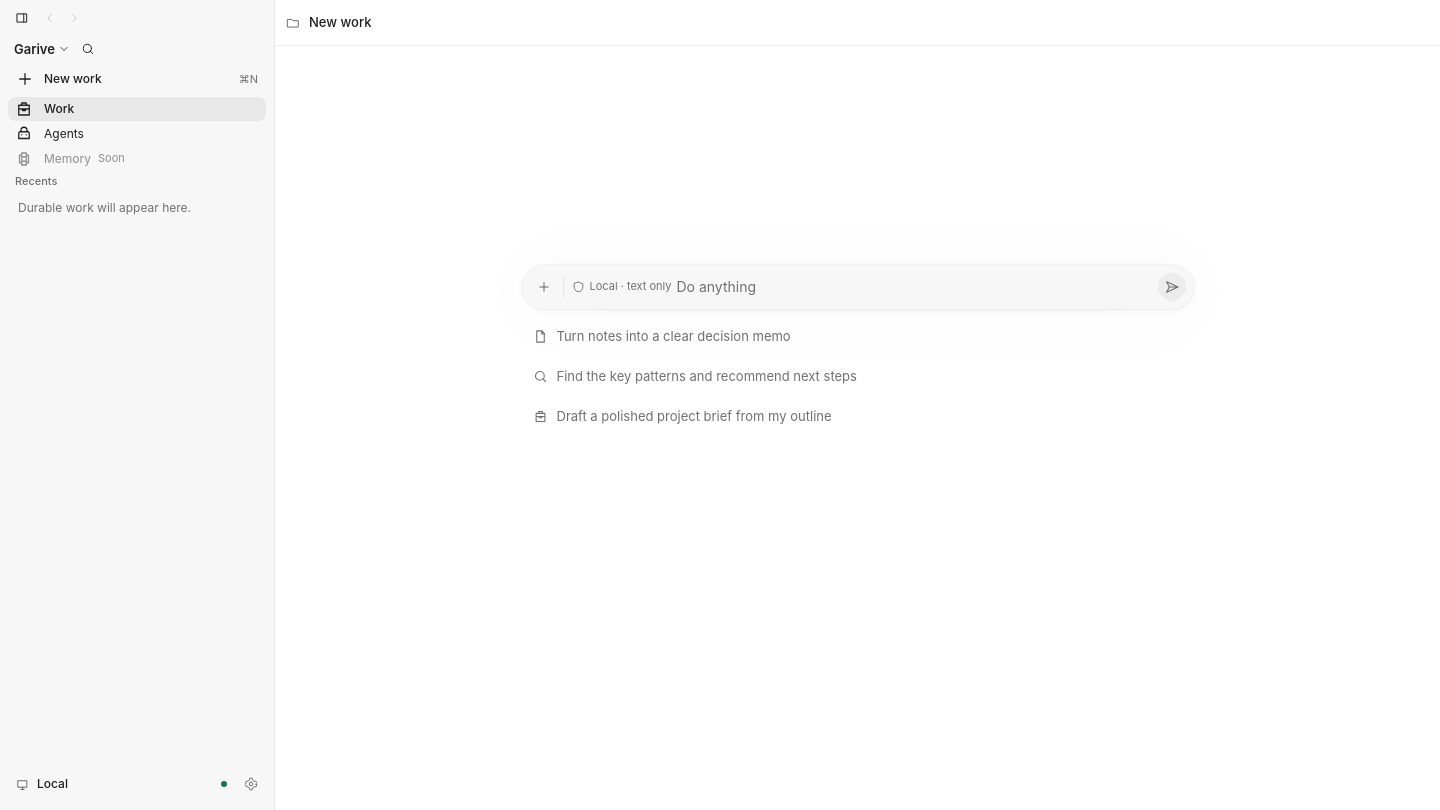
Scenario: Desktop product experience › creates, acknowledges, follows and completes a first durable Turn
The width and height of the screenshot is (1440, 810).
Click the button "Turn notes into a clear decision memo". click: {"x": 674, "y": 336}
box: [522,317,1194,357]
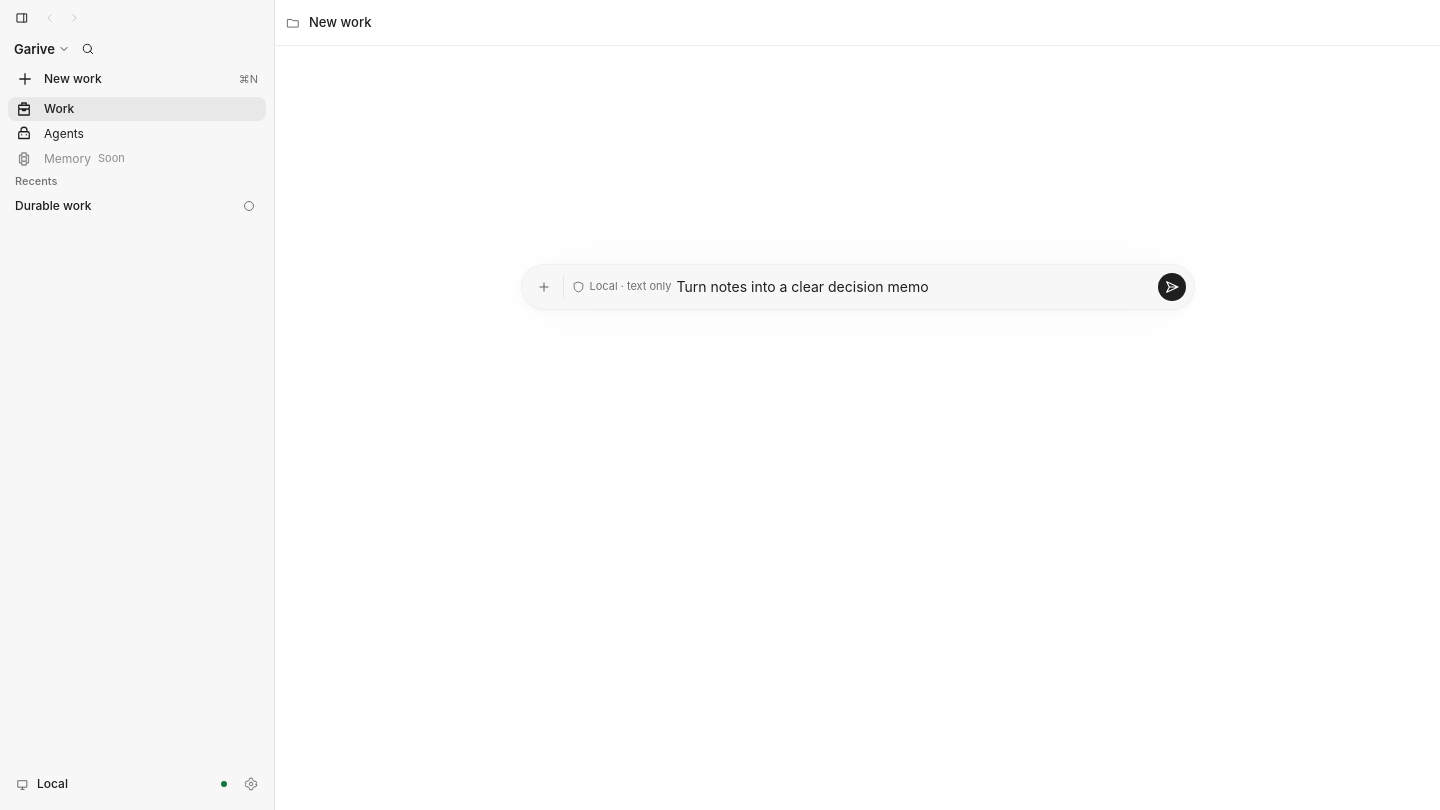
Result: the button named "Send work" is enabled
Click the button named "Send work". click: {"x": 1172, "y": 287}
box: [1158,273,1186,301]
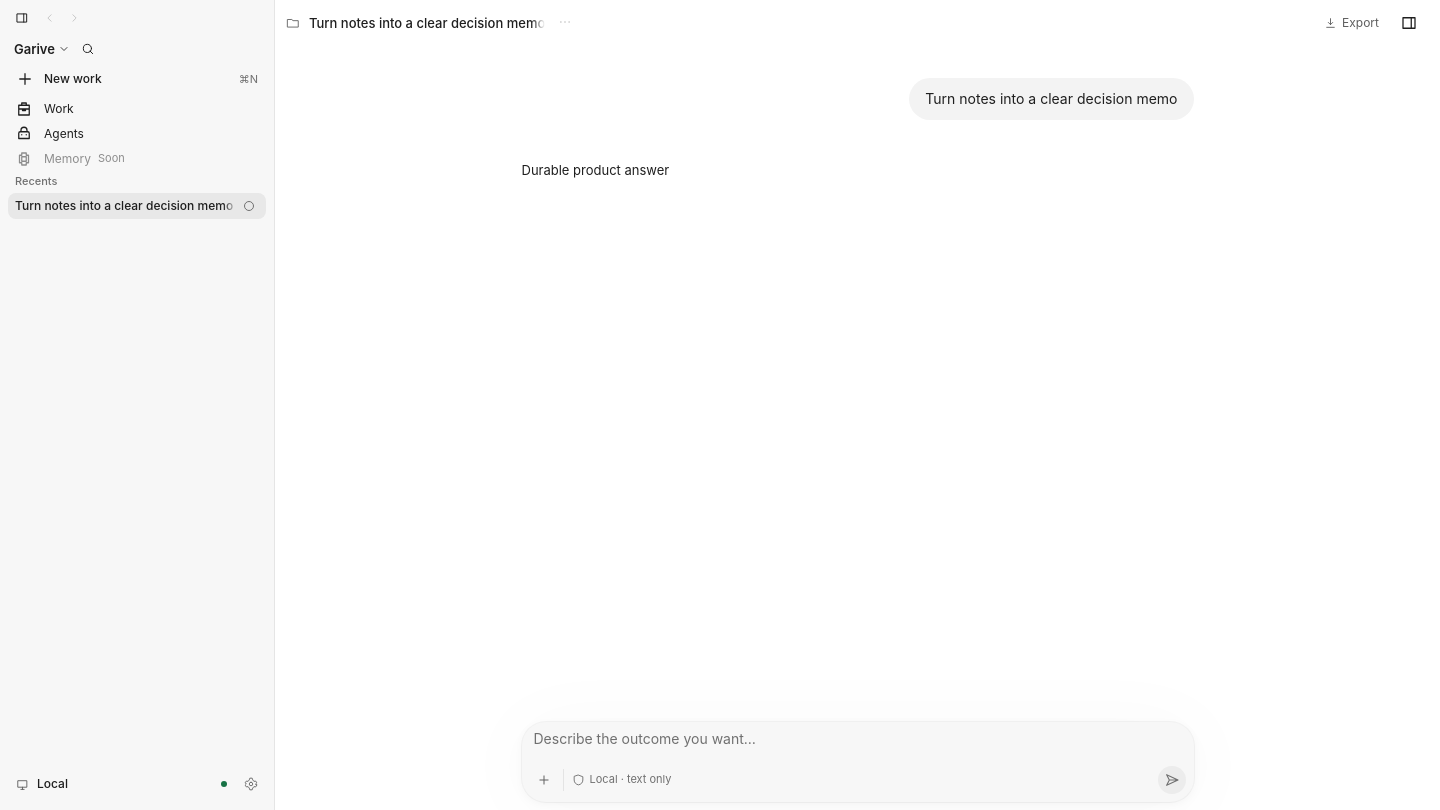
Result: the text "Durable product answer" is shown at [522,162,669,178]
Result: the button with aria-label "Export conversation as Markdown" is shown at [1316,8,1387,38]
Click the button named "Work actions". click: {"x": 565, "y": 22}
box: [553,10,577,34]
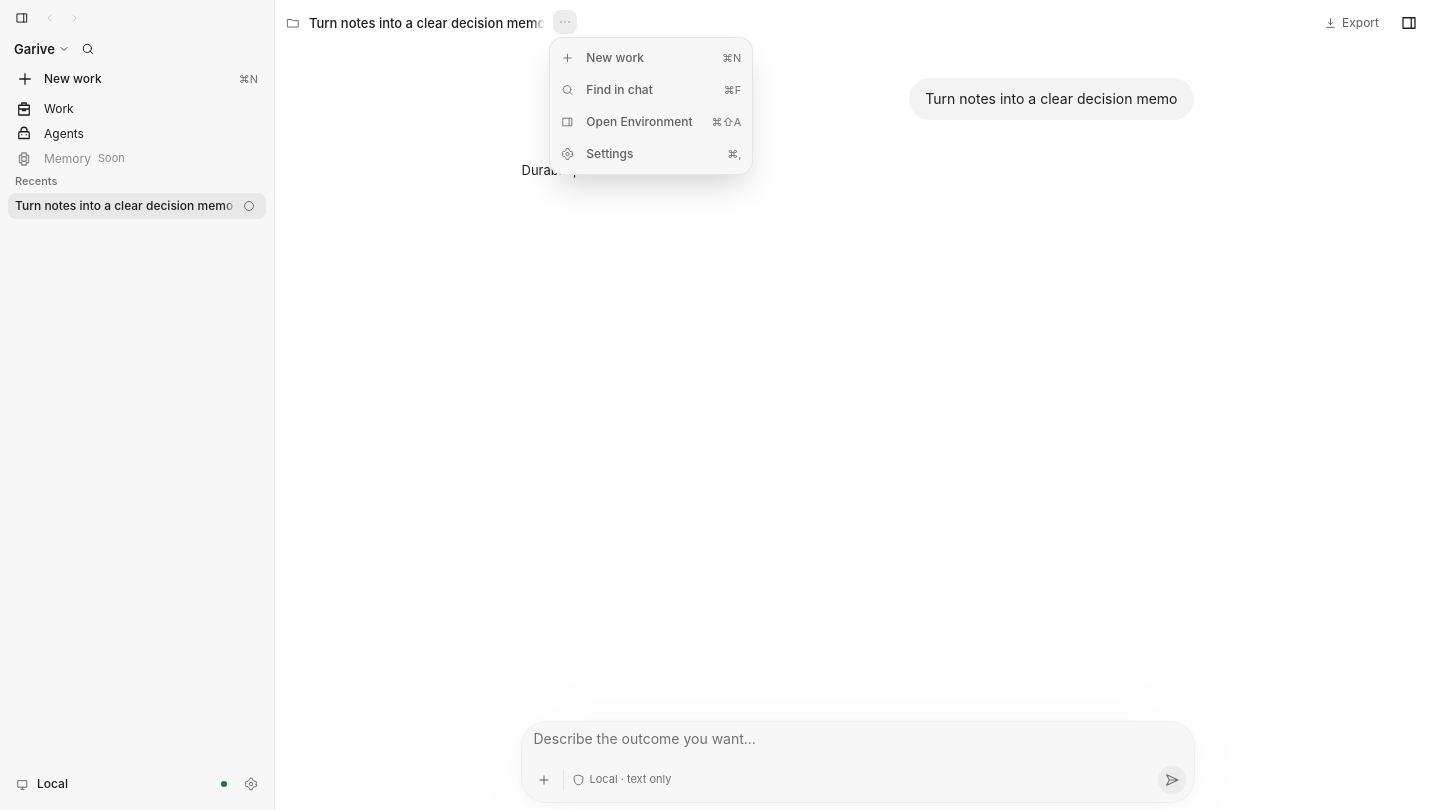
Result: the menu named "Work actions" is shown at [549,37,753,175]
Result: the menu item "New work ⌘N" is shown at [554,42,748,74]
Click the menu item "Open Environment ⌘⇧A". click: {"x": 651, "y": 122}
box: [554,106,748,138]
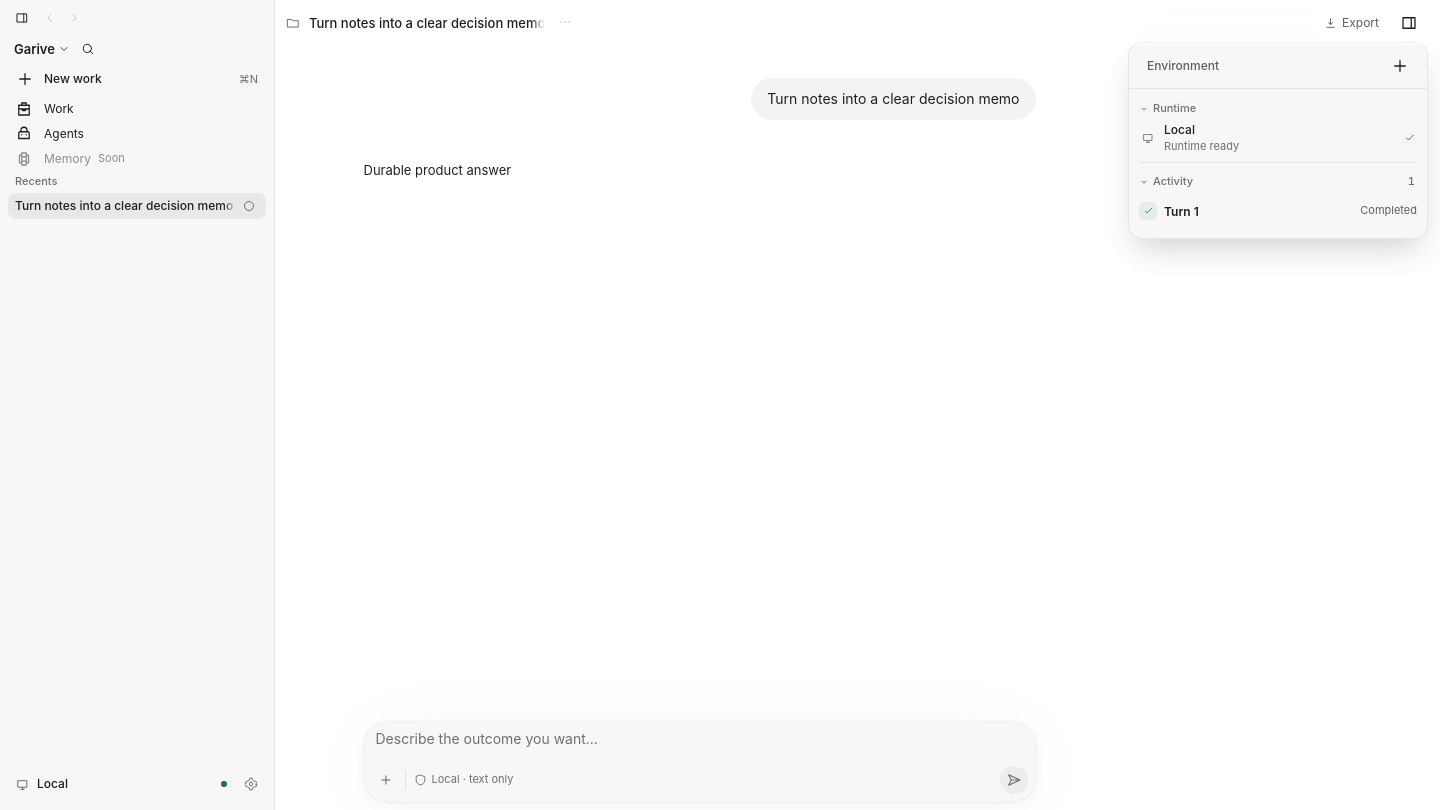
Result: the button named "Add context" in the row of "Environment" is enabled at [1383,48,1417,82]
